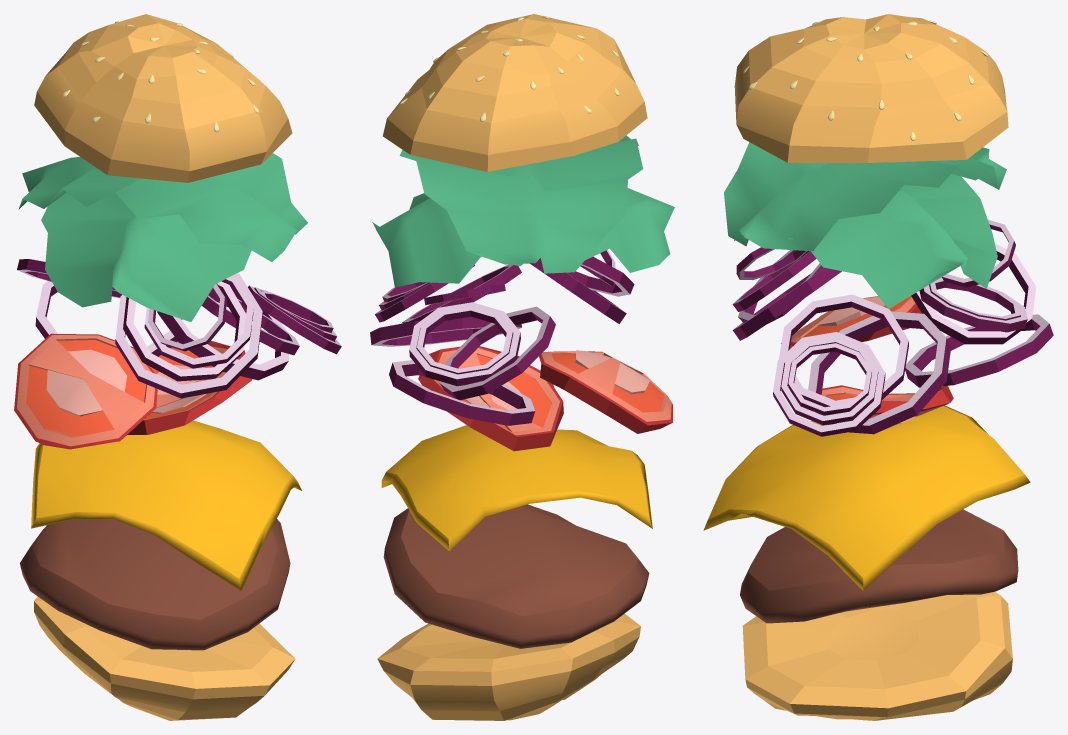
Rendered from bruger_model.fbx.
3 views of the same model, side by side, from view 1: azimuth 30°, elevation 25°; view 2: azimuth 150°, elevation 25°; view 3: azimuth 270°, elevation 25° (orthographic). The views are drawn at different scales.
Visible parts, largest first — view 1: Lettuces, Top Bread, Cheese, Burger, Tomato, BottomBread, Onions; view 2: Top Bread, Lettuces, Burger, Cheese, Onions, BottomBread, Tomato; view 3: Top Bread, Cheese, Lettuces, BottomBread, Onions, Burger, Tomato.
Boxes of the visible parts, x1,y1,x2,y2 form: Lettuces: [18, 153, 307, 321]; Top Bread: [34, 14, 292, 182]; Cheese: [31, 420, 301, 590]; Burger: [20, 518, 290, 650]; Tomato: [14, 333, 252, 449]; BottomBread: [34, 597, 295, 720]; Onions: [17, 259, 341, 398]; Top Bread: [383, 14, 647, 171]; Lettuces: [372, 135, 674, 287]; Burger: [383, 504, 649, 648]; Cheese: [381, 425, 652, 551]; Onions: [370, 250, 634, 425]; BottomBread: [377, 613, 640, 720]; Tomato: [418, 346, 672, 451]; Top Bread: [734, 14, 1008, 162]; Cheese: [703, 405, 1030, 590]; Lettuces: [724, 142, 1006, 309]; BottomBread: [742, 591, 1012, 720]; Onions: [732, 219, 1053, 436]; Burger: [740, 509, 1018, 623]; Tomato: [781, 296, 953, 425].
Bounding box in the file's own units: 27.82 × 60.62 × 28.35.
